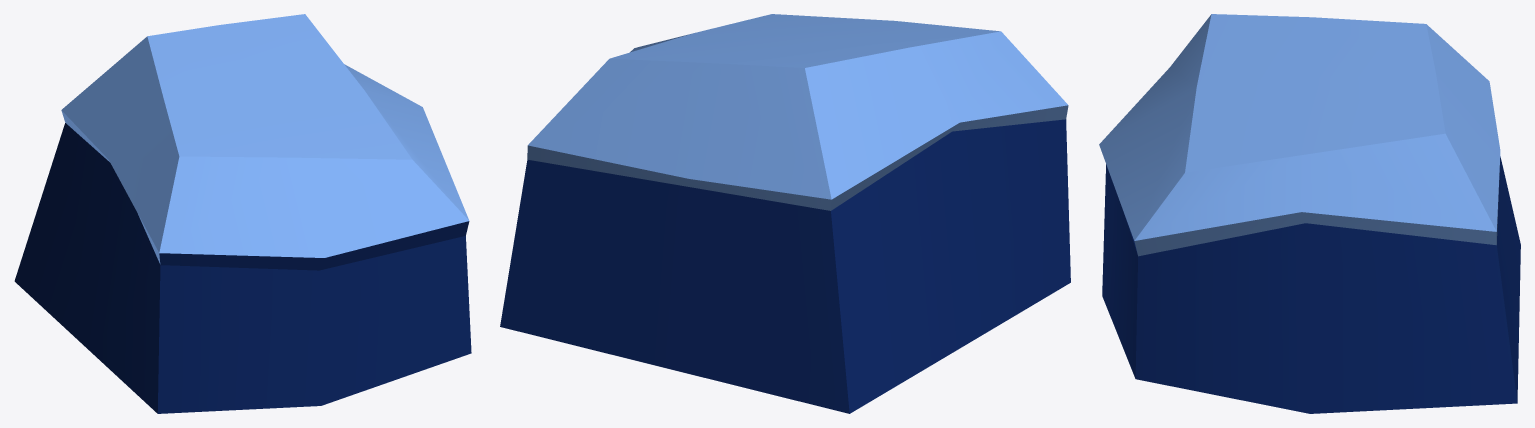
The model's file is Rock_1.fbx.
3 views of the same model, side by side, from view 1: azimuth 30°, elevation 25°; view 2: azimuth 150°, elevation 25°; view 3: azimuth 270°, elevation 25° (orthographic). The views are drawn at different scales.
Visible parts, largest first — view 1: Rock_1; view 2: Rock_1; view 3: Rock_1.
Boxes of the visible parts, x1=… form: Rock_1: x1=14, y1=14, x2=471, y2=413; Rock_1: x1=500, y1=14, x2=1070, y2=413; Rock_1: x1=1099, y1=14, x2=1520, y2=413.
Size of the model in its own units: 8.74 by 5.87 by 8.49.
